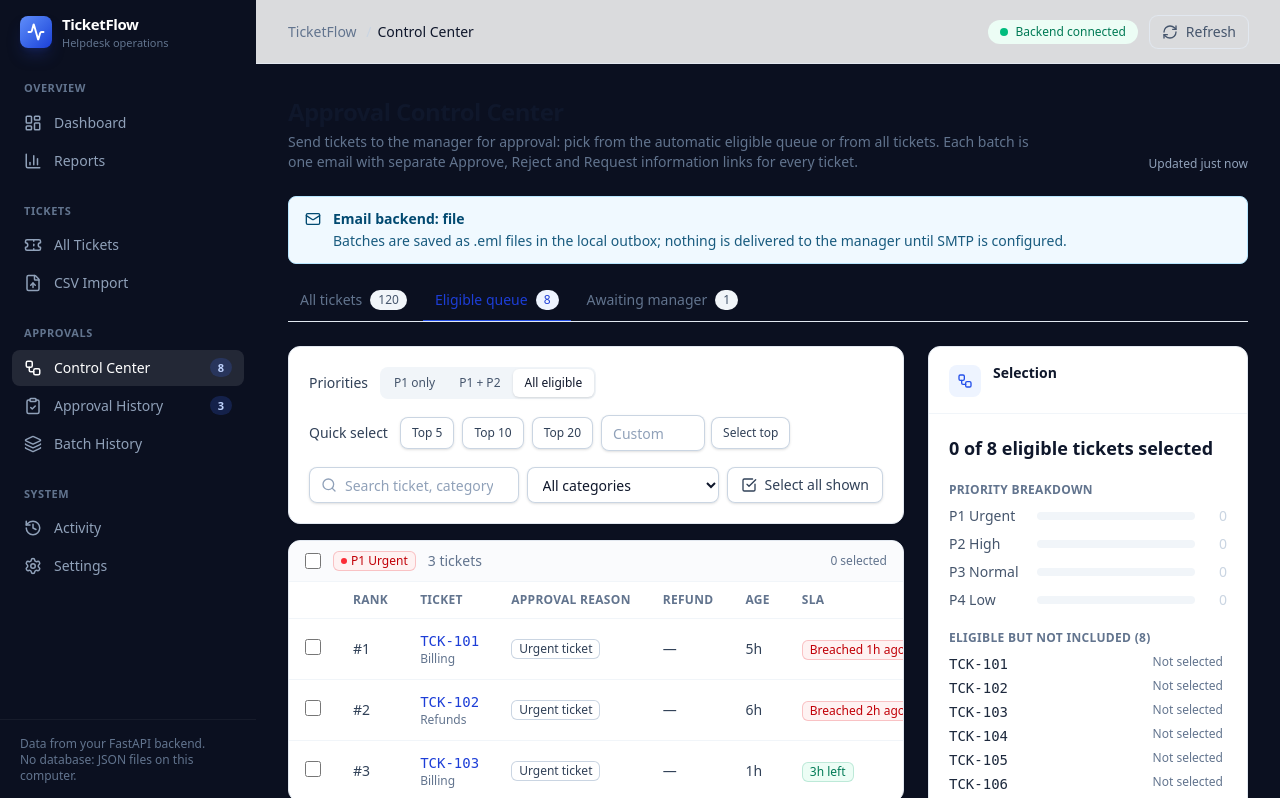
Scenario: Approval Control Center › reports a failed email instead of success
The image size is (1280, 798).
Check: the link "TCK-101" is shown, box [420,633,479,649]
Step 1. Click the checkbox named "Select TCK-101" → (313, 646), box [305,638,321,654]
(page scrolled)
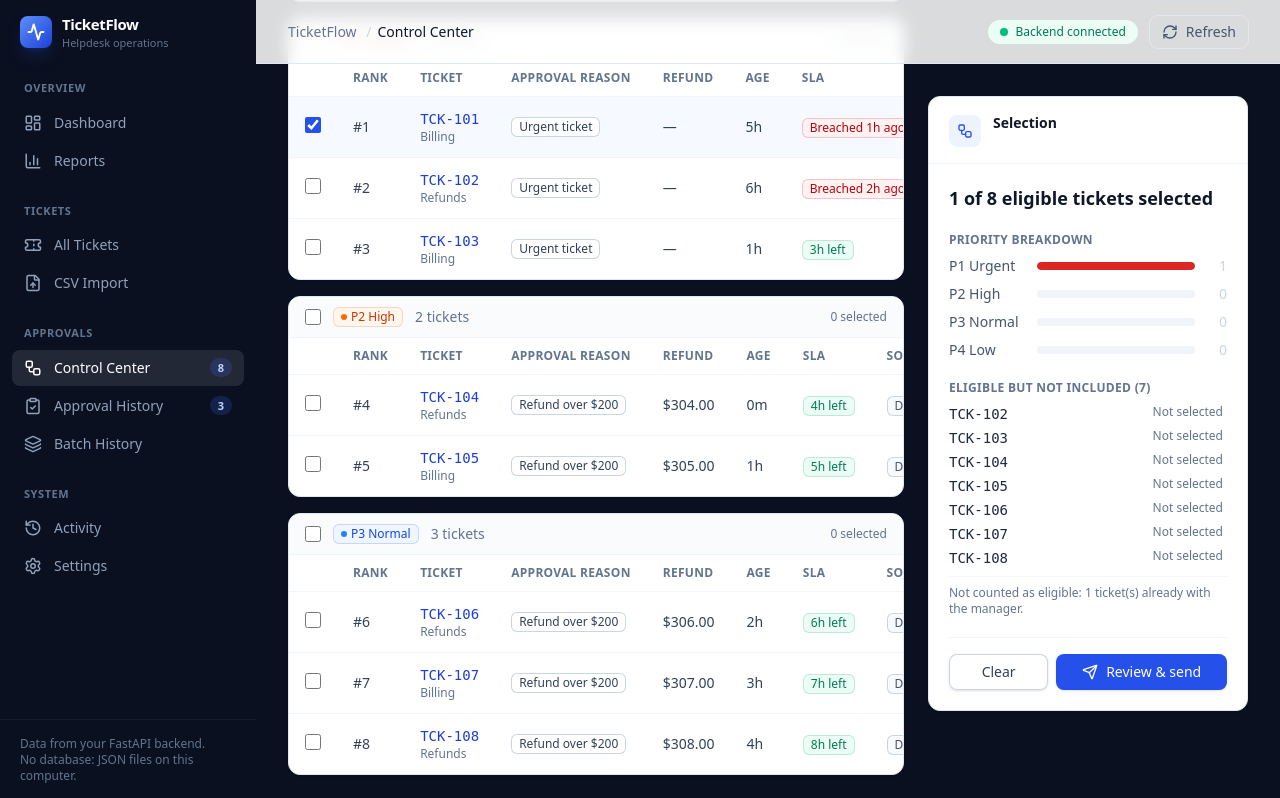
Step 2. Click the button "Review & send" → (1142, 672), box [1056,654,1227,690]
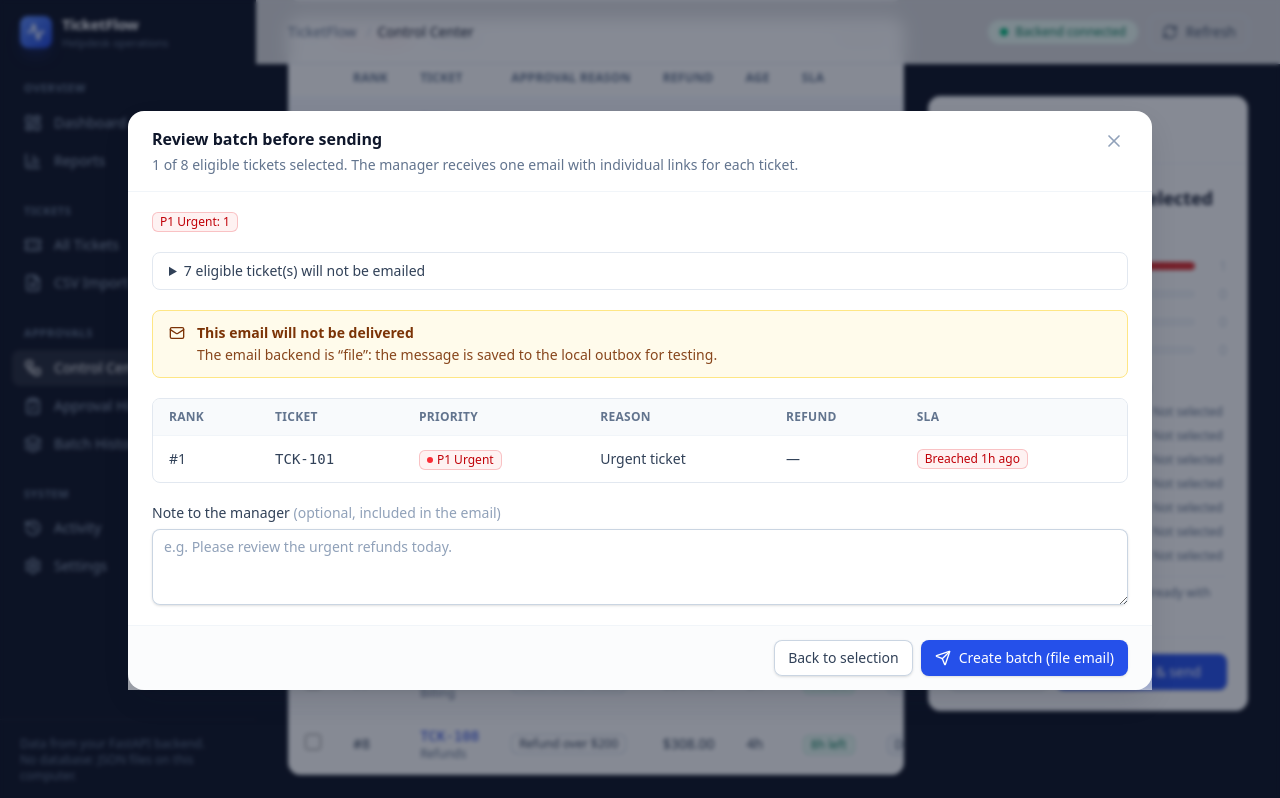
Step 3. Click the button "Create batch (file email)" → (1024, 658), box [921,640,1128,676]
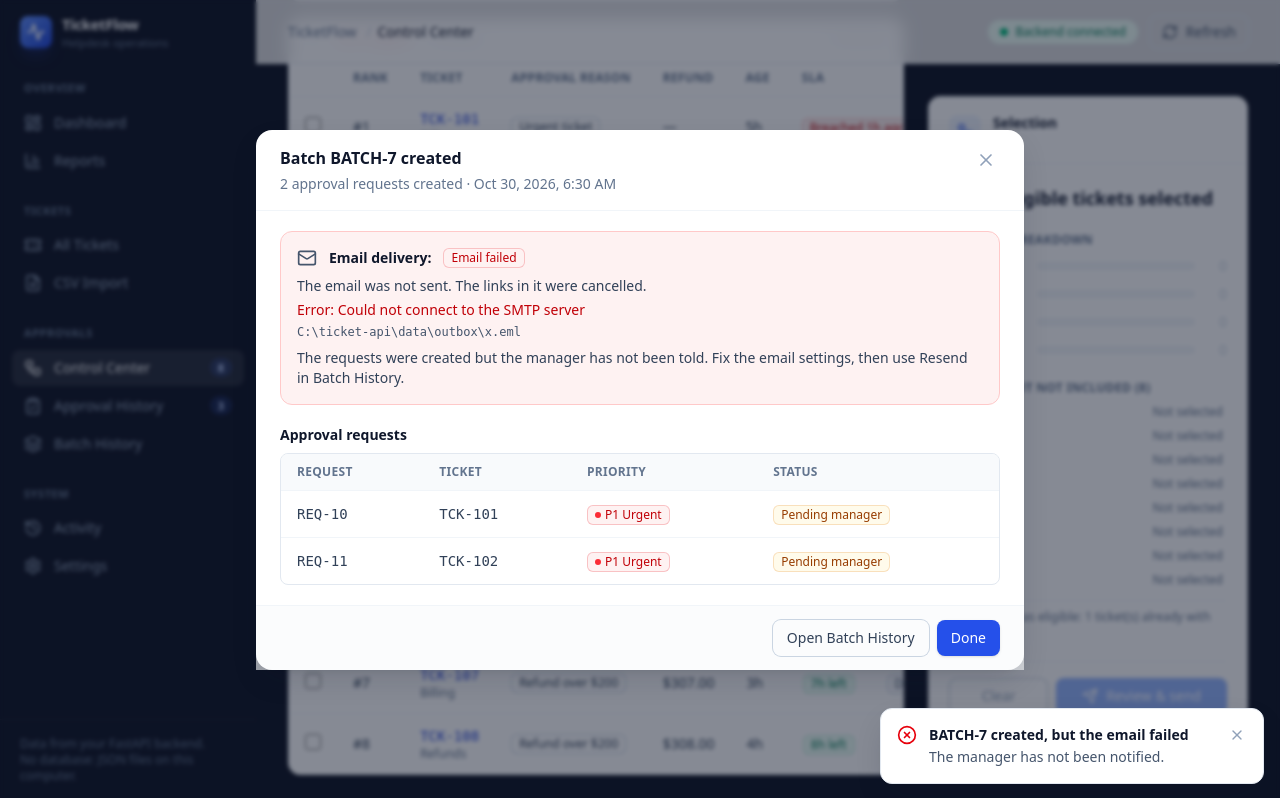
Check: the text "Email failed" is shown, box [444,248,525,268]
Check: the text "Error: Could not connect to the SMTP server" is shown, box [297,300,585,319]
